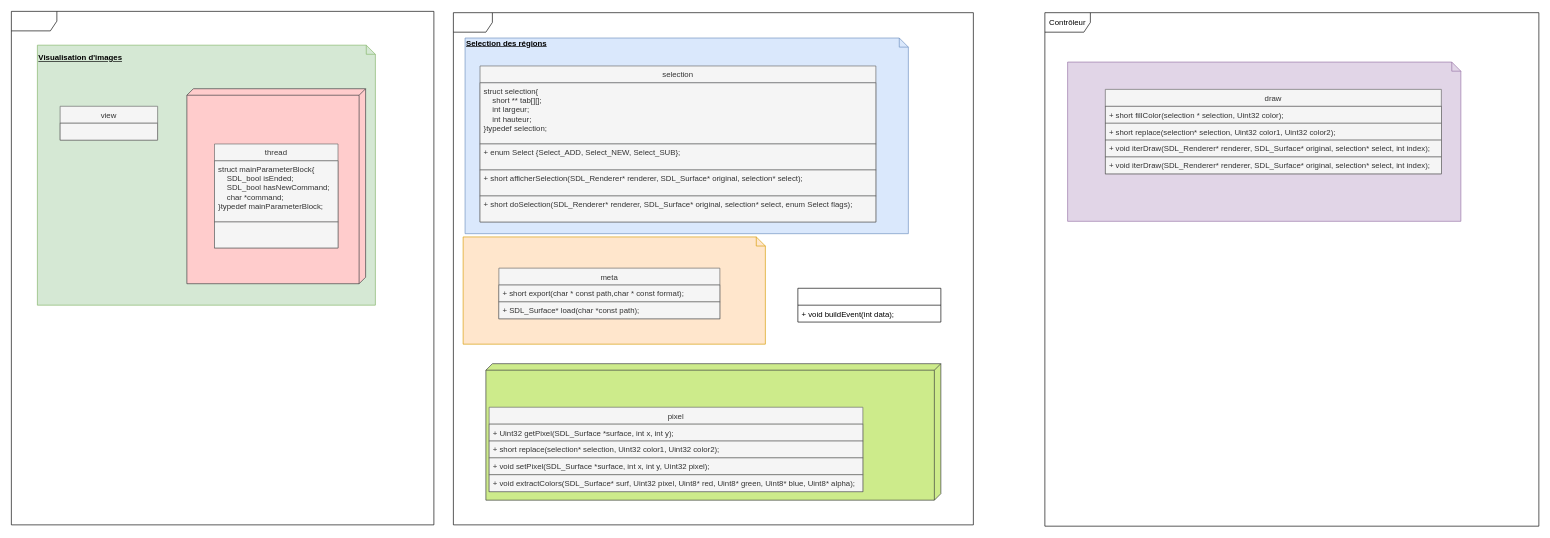
The diagram is 1550 pixels wide and 538 high, and some of its shapes have lost their labels. Here are the shapes that lost their labels. From the top down, the box of each, then its label:
(59, 123, 158, 140): + short startView(int width, int height);
(1067, 61, 1461, 221): Transformation d'images
(186, 88, 366, 284): Gestion des fenêtres :
(214, 221, 338, 248): + int startThread(void *p);
(11, 11, 434, 525): Vue
(453, 12, 973, 525): Modèle
(462, 236, 765, 344): Chargement et sauvegarde d'images
(797, 288, 941, 322): event_builder
(485, 363, 941, 500): Structures de données :
